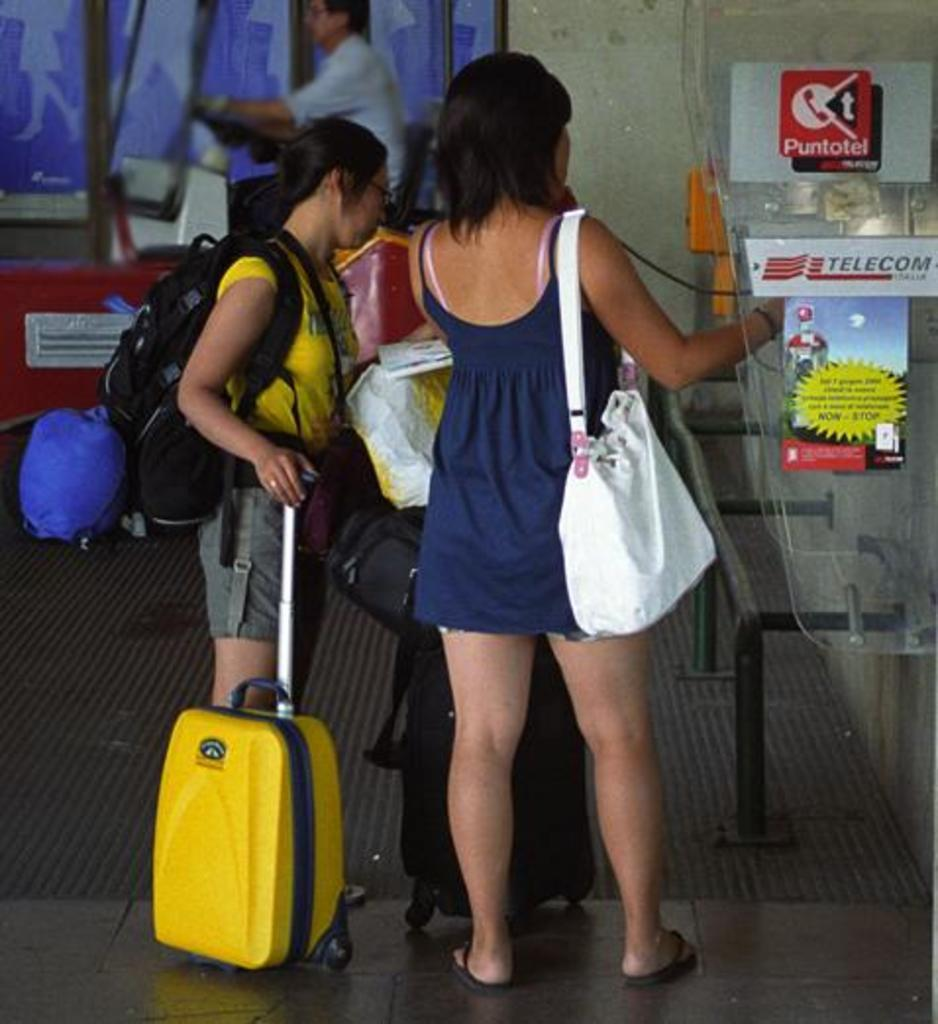Luggage-and-bags: (155, 510, 355, 983), (553, 210, 720, 632), (361, 632, 593, 922), (96, 241, 296, 565), (22, 400, 130, 555), (334, 488, 443, 638)
